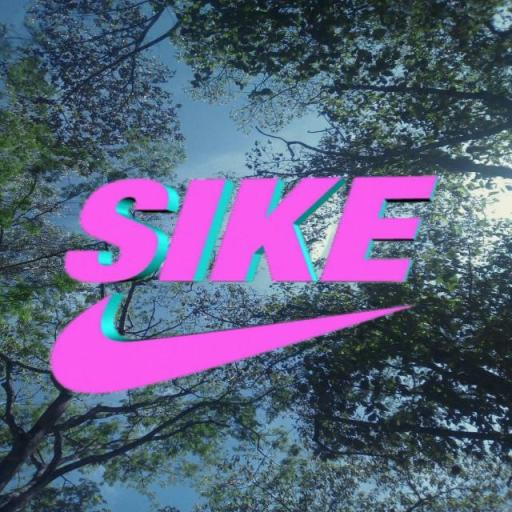Nike: (48, 302, 410, 396)
